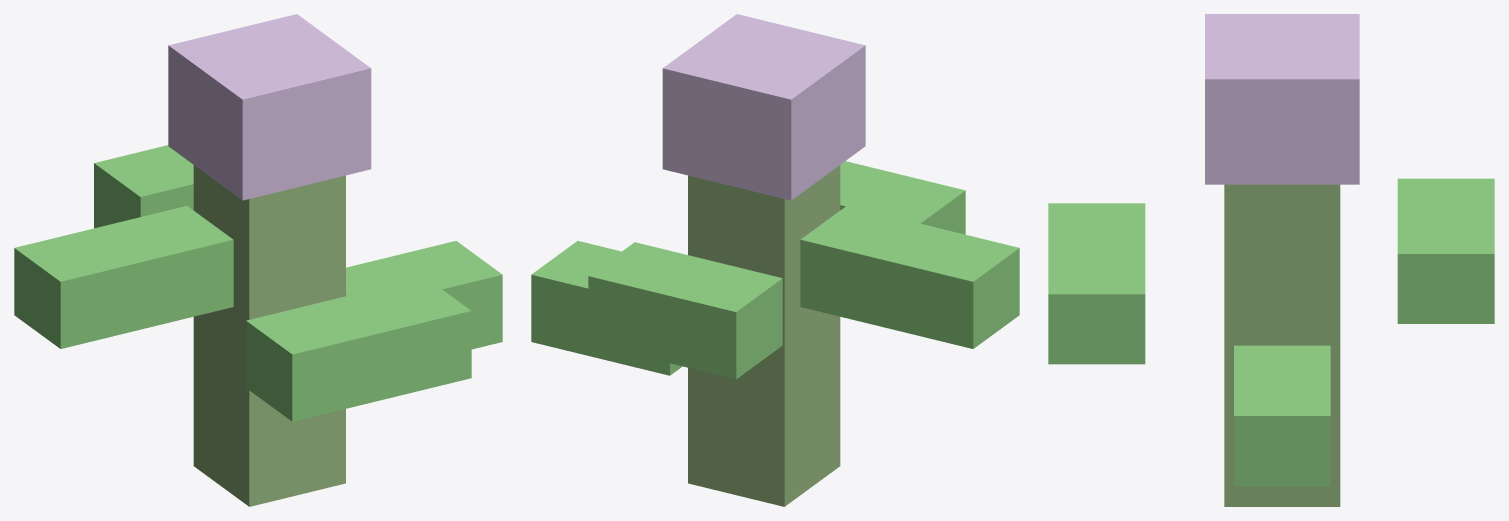
Rendered from Prop_Herb_AMF_Snoutsage_V2.glb.
3 views of the same model, side by side, from view 1: azimuth 30°, elevation 25°; view 2: azimuth 150°, elevation 25°; view 3: azimuth 270°, elevation 25° (orthographic). The views are drawn at different scales.
Visible parts, largest first — view 1: Prop_Herb_AMF_Snoutsage_V2; view 2: Prop_Herb_AMF_Snoutsage_V2; view 3: Prop_Herb_AMF_Snoutsage_V2.
Boxes of the visible parts, x1=… form: Prop_Herb_AMF_Snoutsage_V2: x1=14, y1=14, x2=502, y2=506; Prop_Herb_AMF_Snoutsage_V2: x1=531, y1=14, x2=1019, y2=506; Prop_Herb_AMF_Snoutsage_V2: x1=1048, y1=14, x2=1494, y2=506.
Bounding box in the file's own units: 0.275 × 0.2485 × 0.2305.
